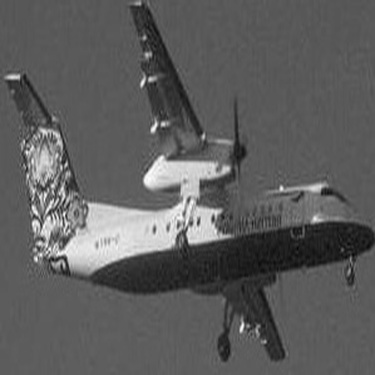airplane: (8, 4, 370, 371)
